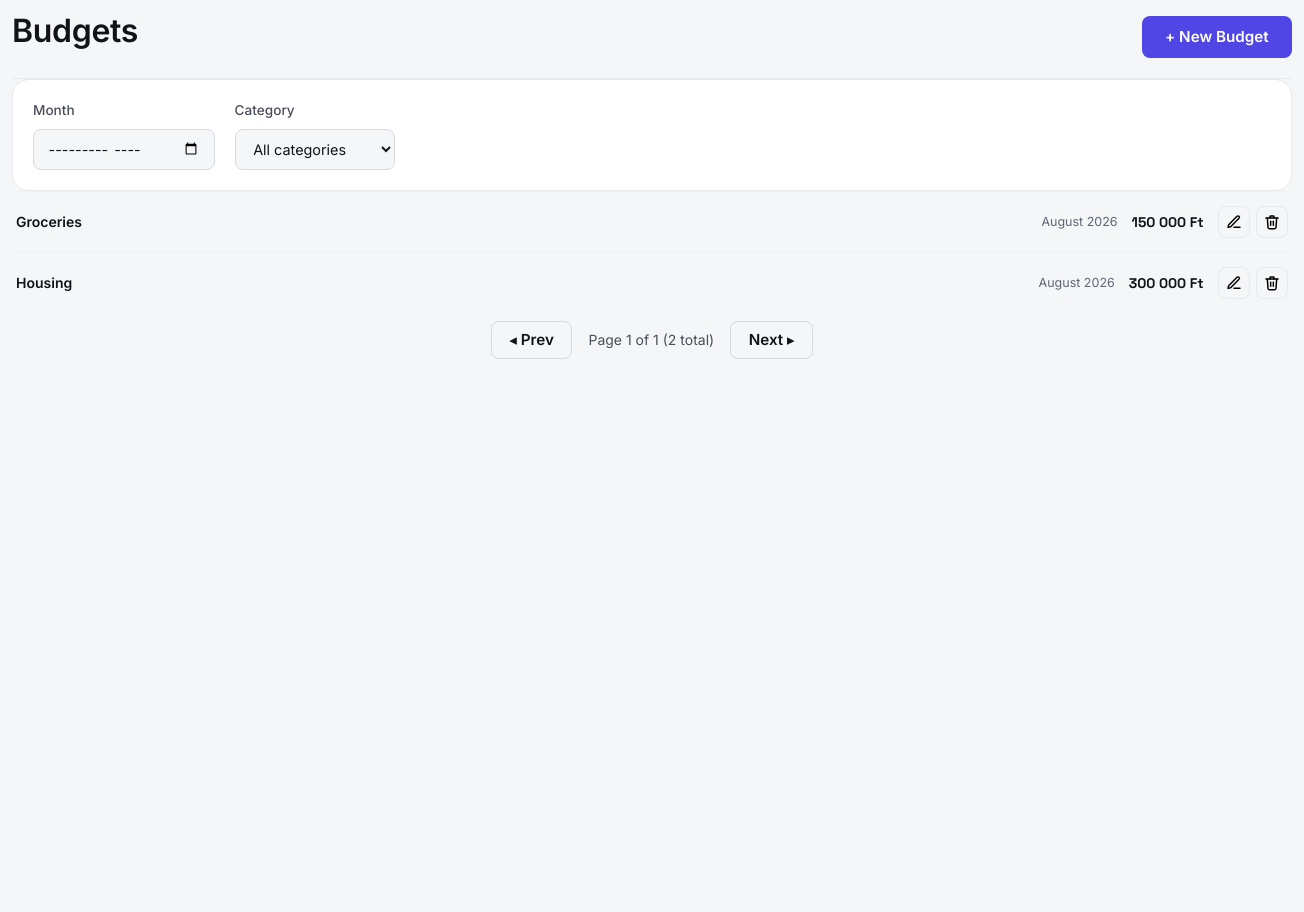
Scenario: BudgetsTab › opens the form prefilled with the clicked budget when its edit icon is clicked
Click the button named "Edit Housing, August 2026" at [1234, 283], box [1218,267,1250,299]
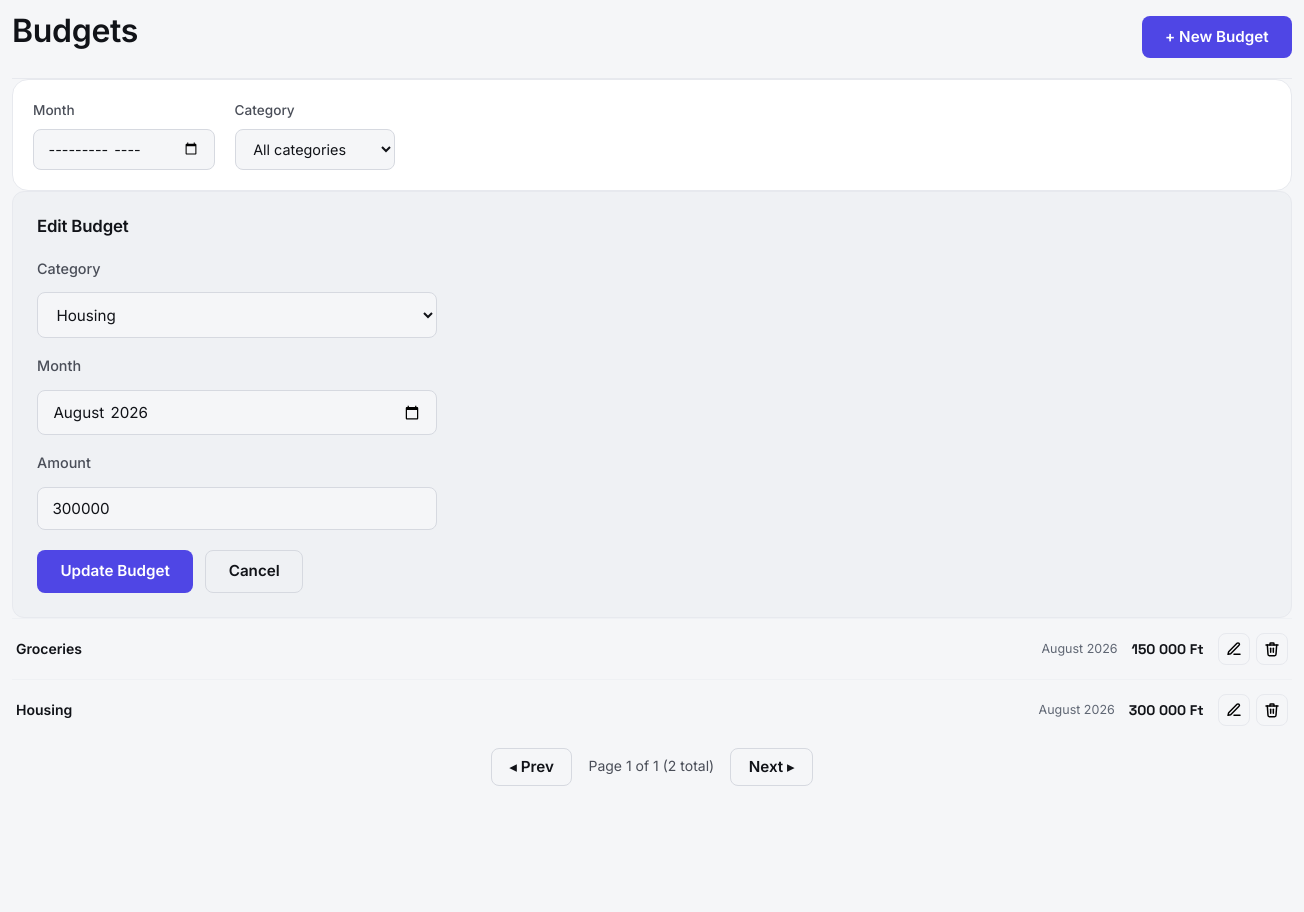
Now the heading "Edit Budget" is shown, box [37,216,128,236]
Now the dropdown labelled "Category" below "Edit Budget" shows "Housing", box [37,292,437,338]
Now the field labelled "Month" below "Edit Budget" holds "2026-08", box [37,390,437,435]
